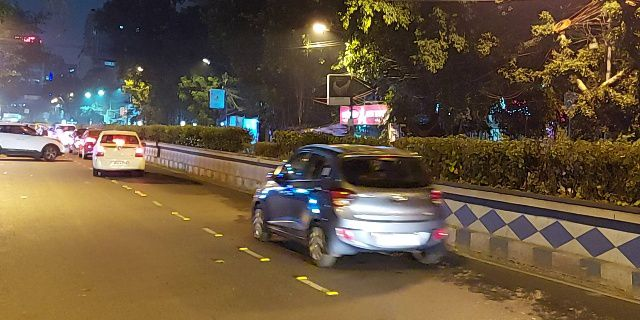Car: (252, 148, 451, 265), (89, 122, 147, 178)
